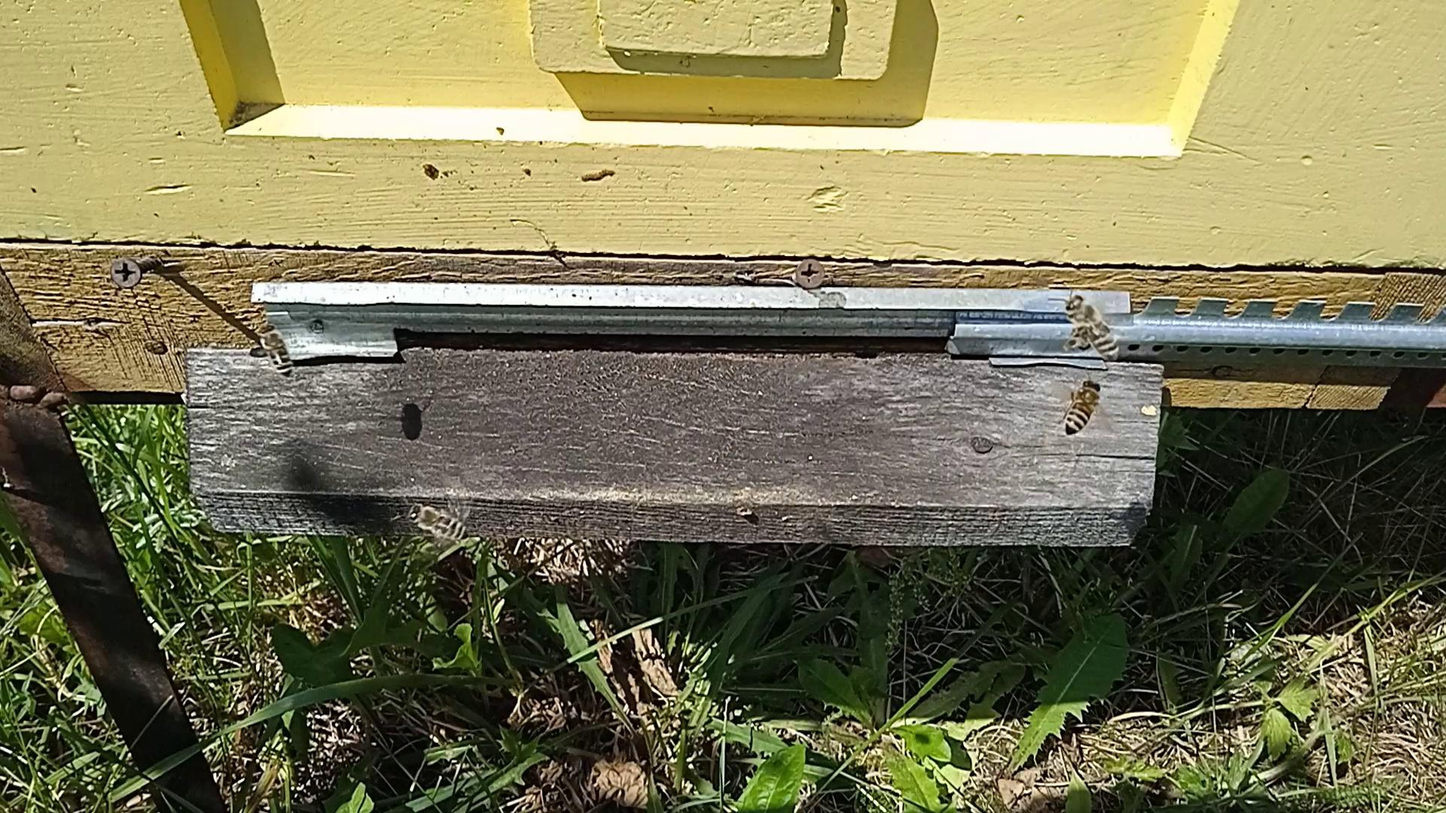worker-bee: (1062, 293, 1121, 360), (405, 502, 468, 540), (1062, 378, 1103, 436), (256, 323, 295, 378)
